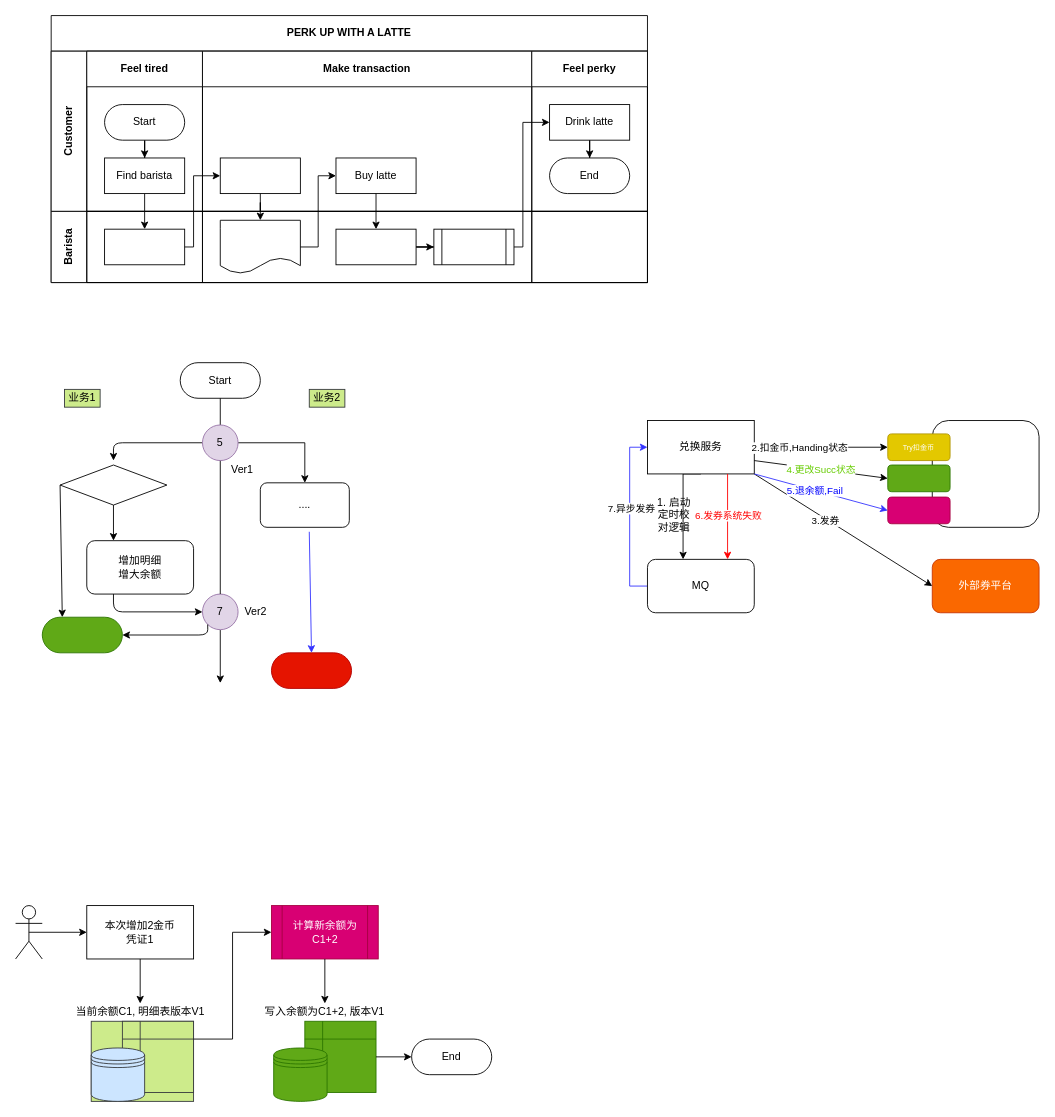
This 1055x1117 diagram has some shape labels left out. The centre of each missing label's shape, as x and y in pixels:
Accept payment: [375,246]
Cancel: [918,510]
Commit: [918,478]
fail: [311,670]
Greet customer: [144,246]
Make latte: [473,246]
Request latte: [259,175]
Succ: [81,634]
Write details on cup: [259,246]
判断幂等串已存存: [113,484]
金币服务: [985,473]
